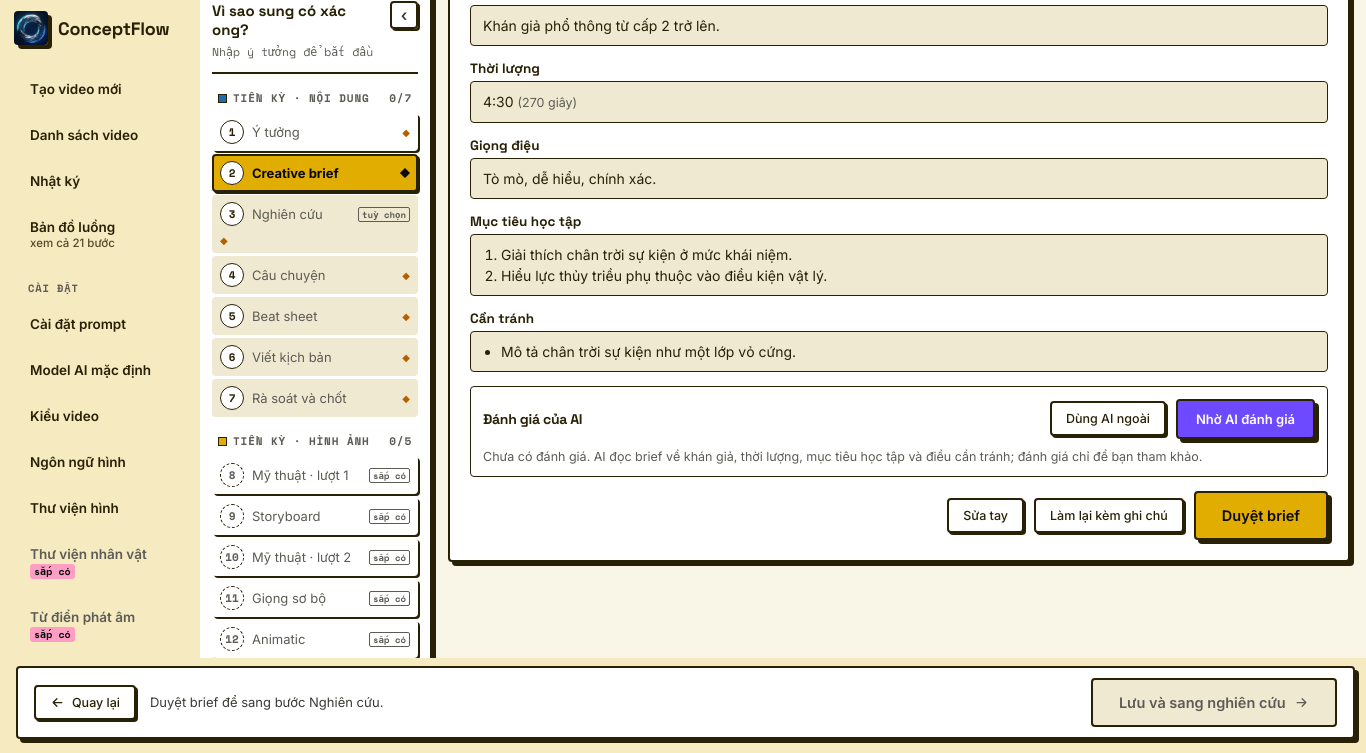
Test case: CreativeBriefStepPage (Bước 2 — Creative brief) › sửa tay: thời lượng gõ sai thì báo lỗi và không gọi máy chủ
(page scrolled)
Click the button with test id "brief-actions-edit". click: (986, 515)
box: [947,498,1024,533]
(page scrolled)
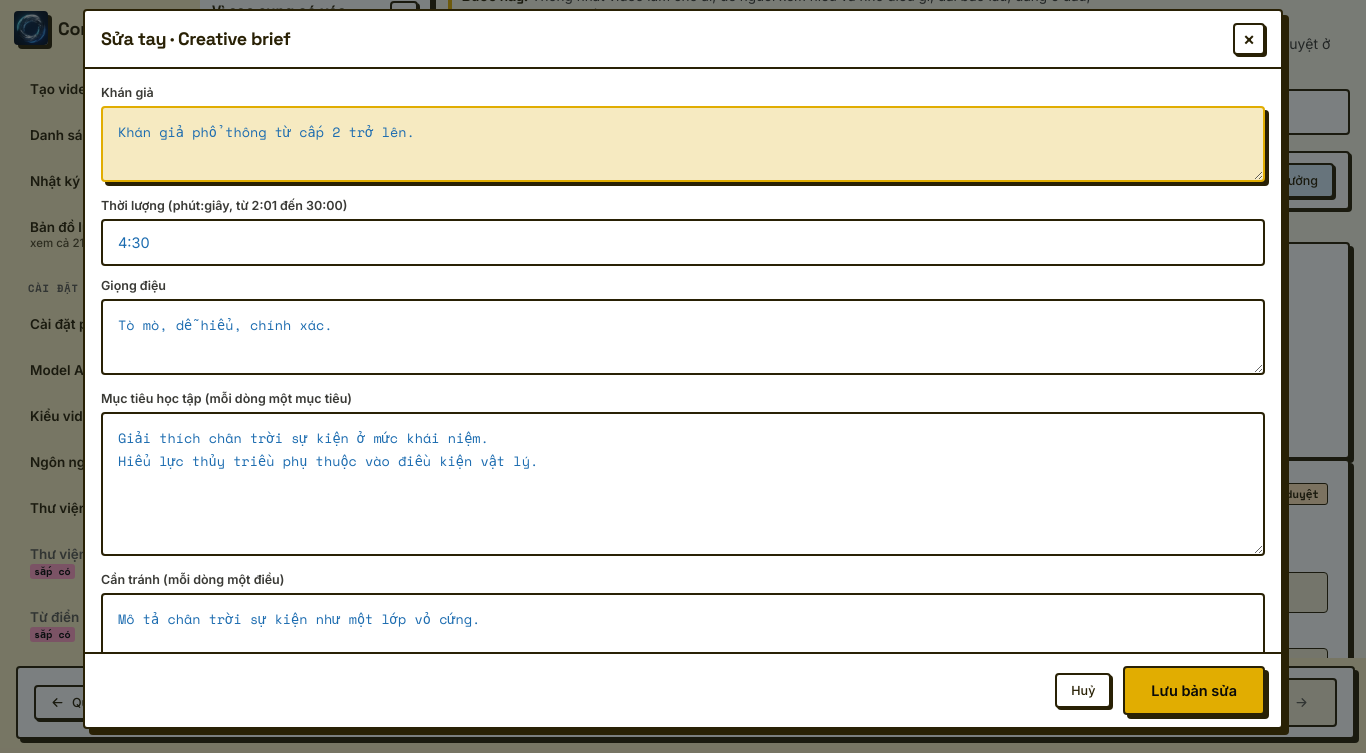
Type "bốn phút" into the field with test id "brief-edit-field-duration_seconds". click: (683, 242)
box: [101,219,1265,266]
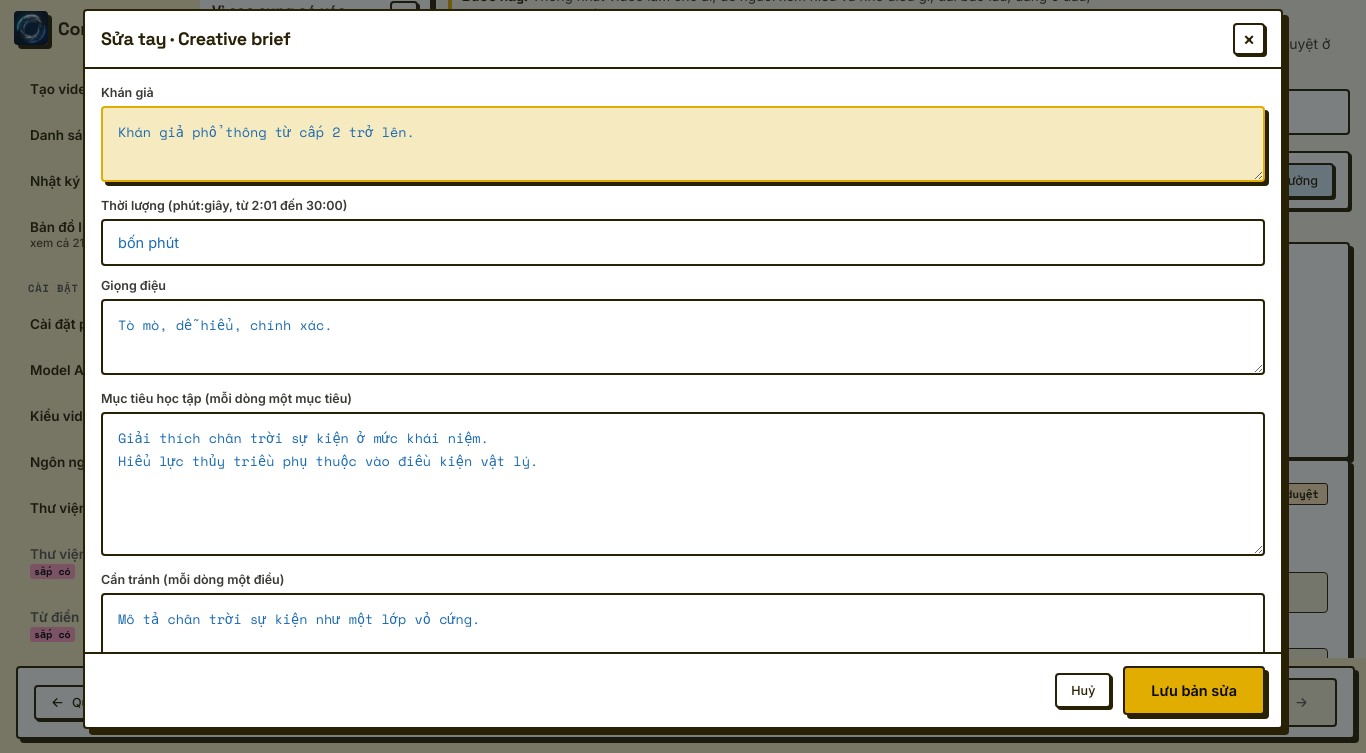
Click the button with test id "brief-edit-save". click: (1194, 690)
box: [1123,666,1265,715]
(page scrolled)
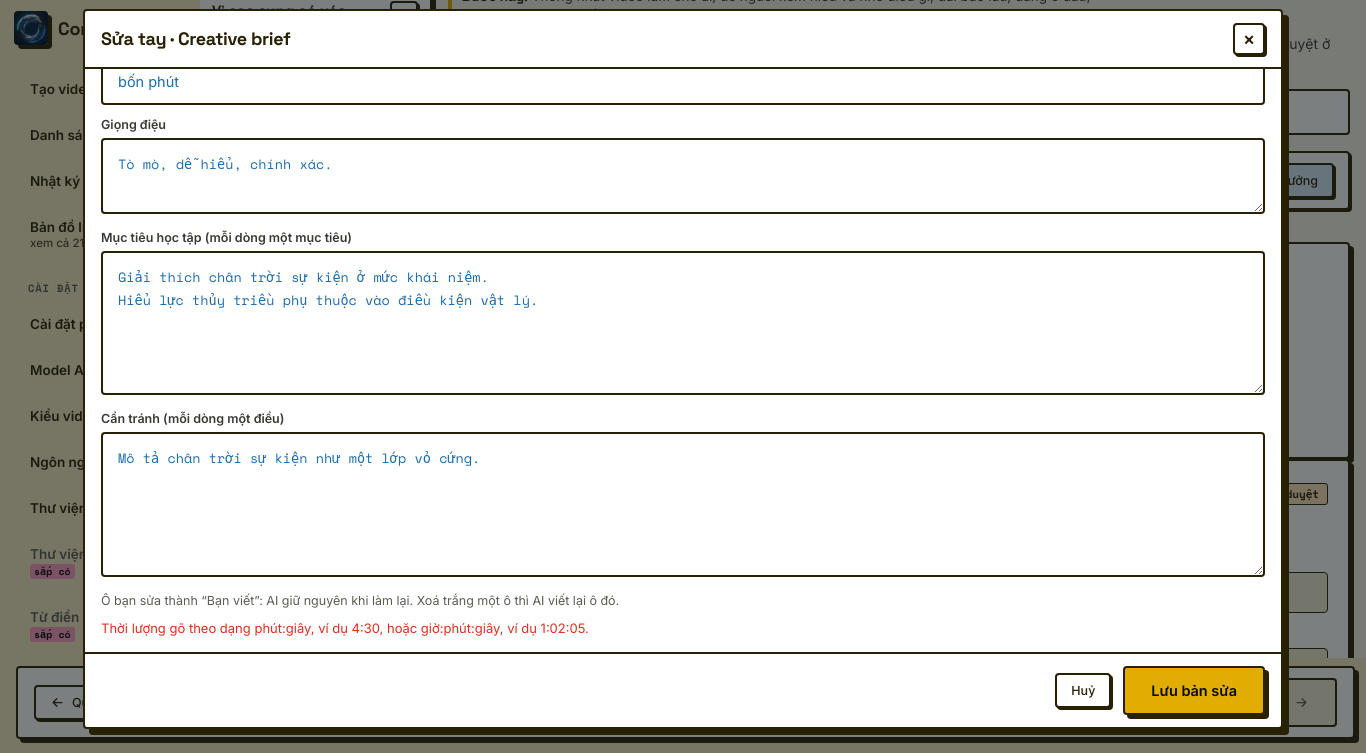
Now the message shows "phút:giây", box [101,620,589,636]
